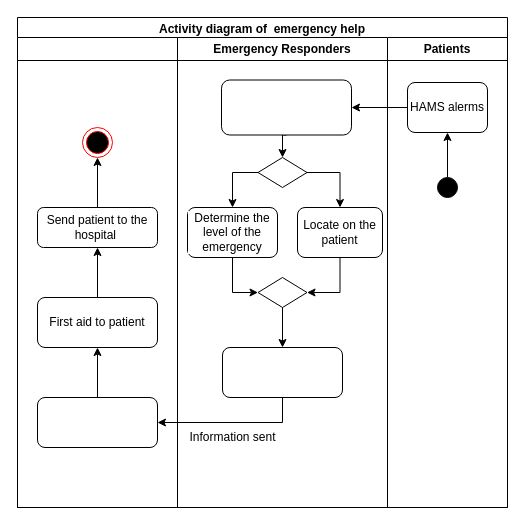
This 525x525 diagram has some shape labels left out. The box of each missing label's shape, as (x1, y1, x2, y2) in pixels:
Ambulance stuffs: (16, 36, 178, 508)
Dispatch ambulance stuffs corresponding the emergency level: (222, 346, 342, 398)
Head to patient's location: (36, 396, 158, 448)
Identify current situation of the patient: (220, 79, 352, 135)
